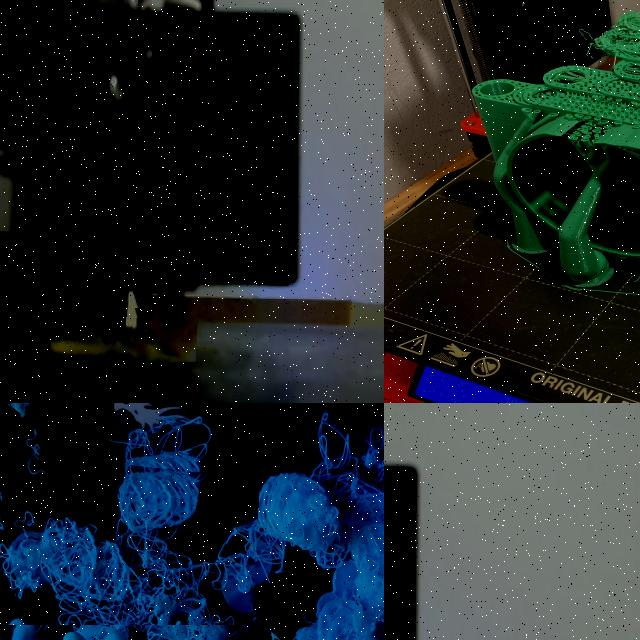spaghetti: (0, 451, 260, 625), (258, 424, 384, 640), (51, 311, 197, 362), (580, 24, 618, 56), (0, 403, 43, 424)
